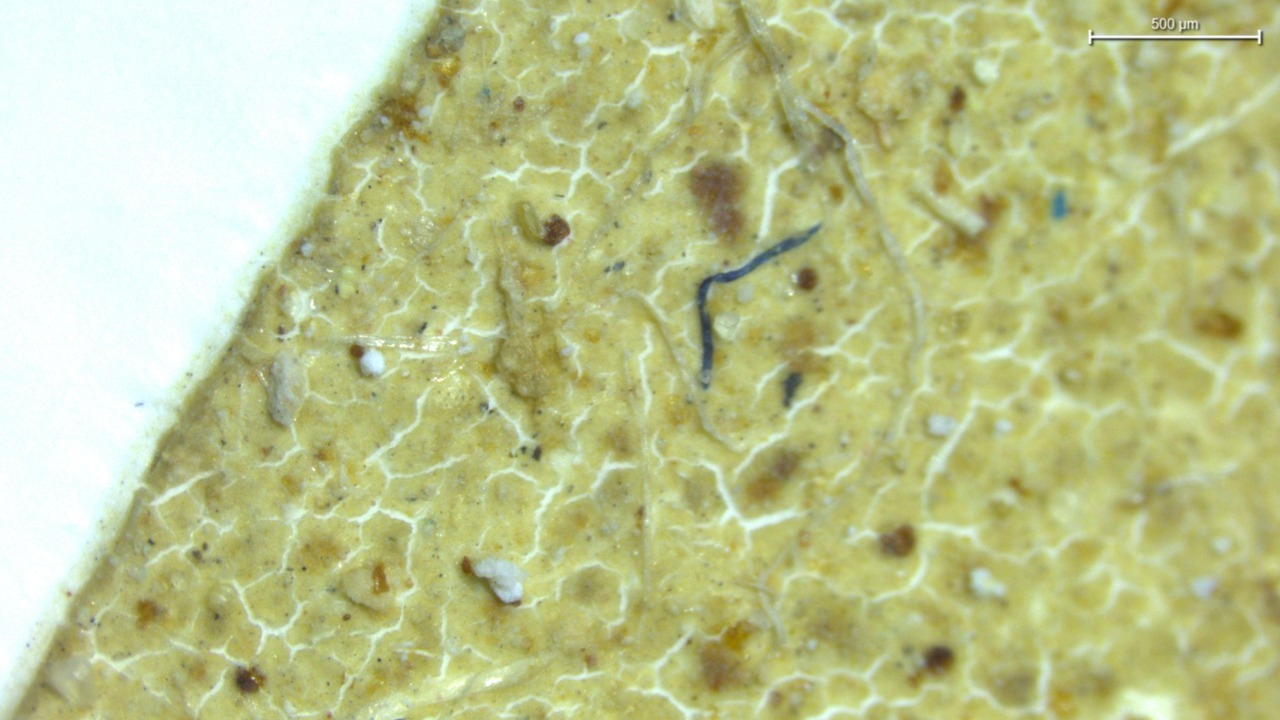microplastic_fragment: (266, 350, 306, 426), (471, 557, 524, 604), (359, 348, 385, 376)
